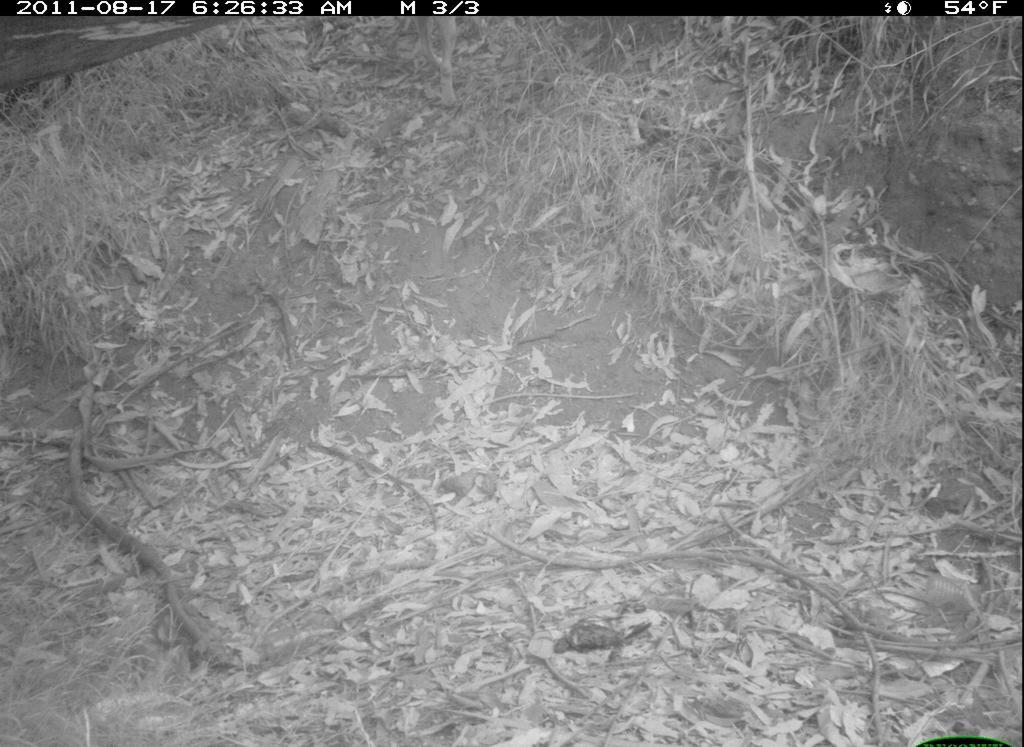dog: (388, 16, 483, 116)
